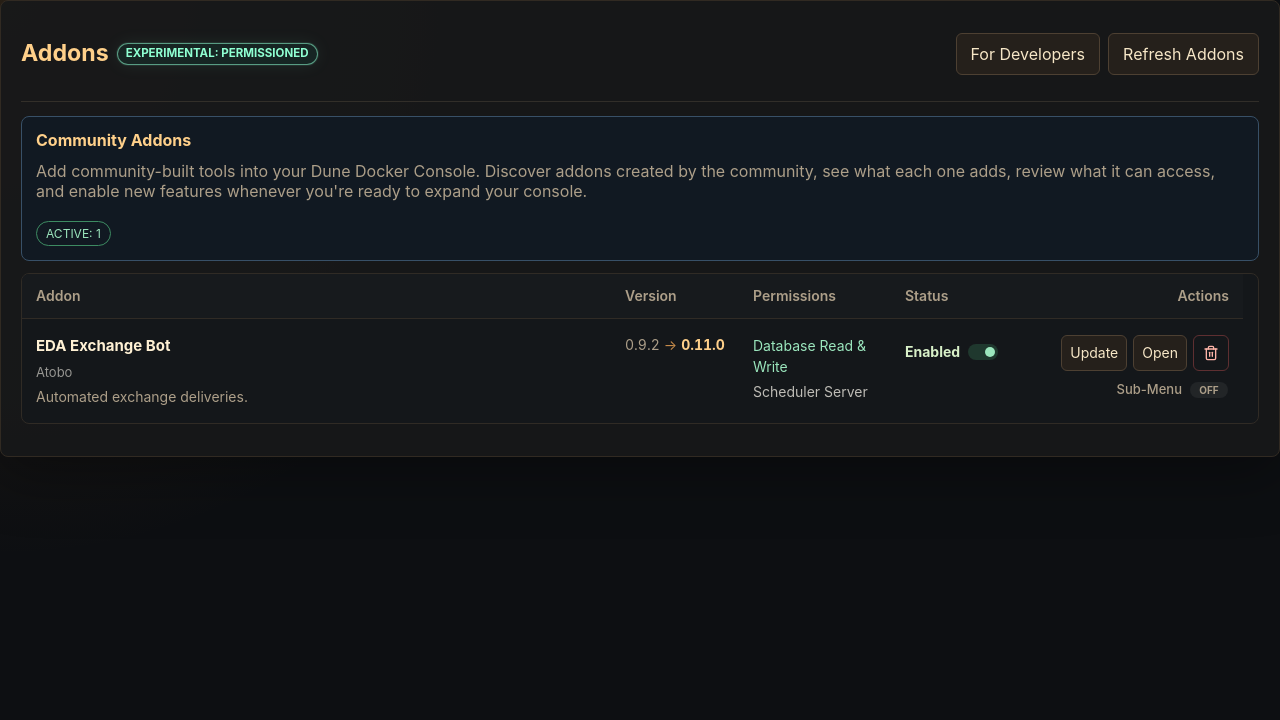
Scenario: reports failed cleanup and keeps the addon visible and disabled for retry
The image size is (1280, 720).
Click the button named "Uninstall" at (1211, 353), box [1193, 335, 1229, 371]
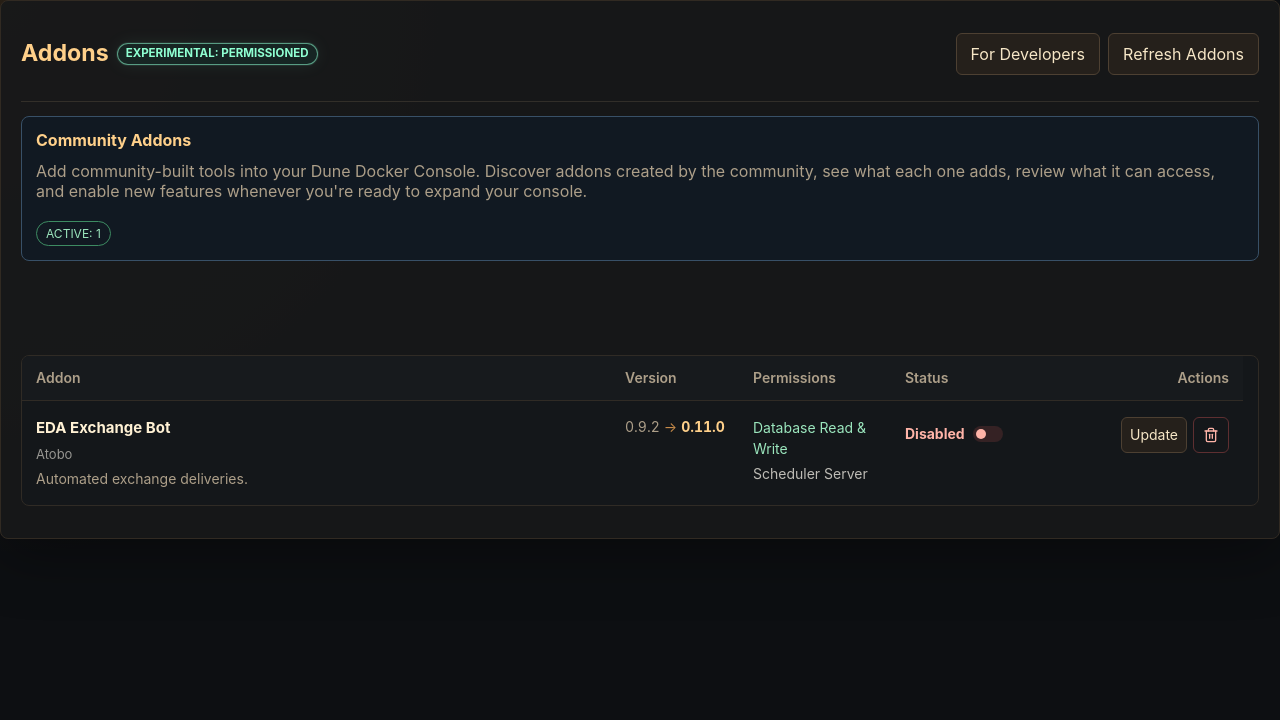
Expected: the button named "Uninstall" is enabled, [1193, 417, 1229, 453]
Expected: the text "Disabled" is shown, [905, 425, 965, 443]
